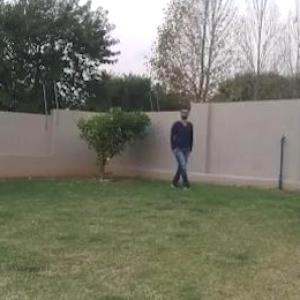follow: (170, 108, 192, 192)
